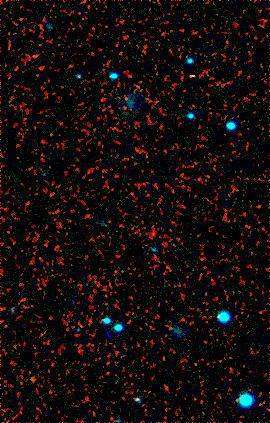star: (176, 60, 206, 90)
